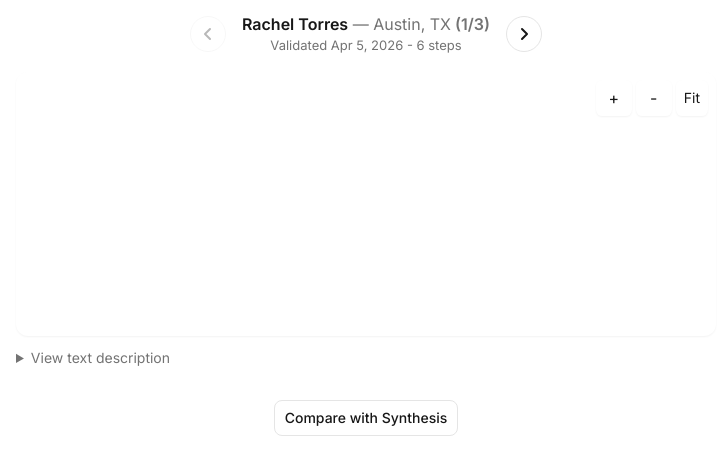
Test case: IndividualDiagramCarousel › clicking right arrow advances to next slide
Click the button named "Next interviewee" at x=524, y=34, box [506,16,542,52]
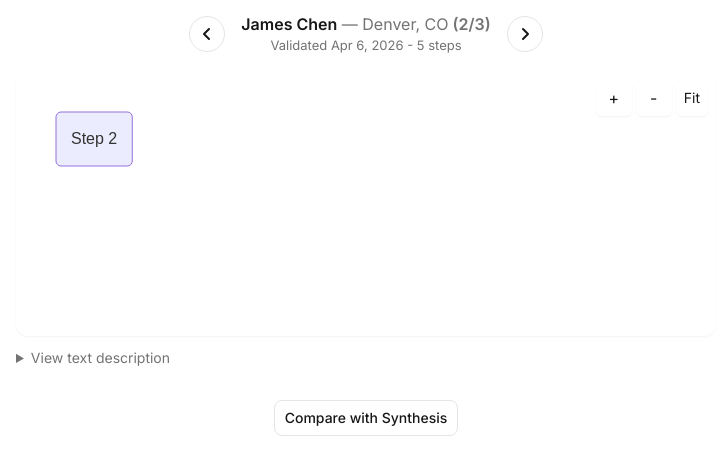
Now the text "(2/3)" is shown, box [448,14,491,34]
Now the text "Validated Apr 6, 2026 - 5 steps" is shown, box [270,37,462,53]
